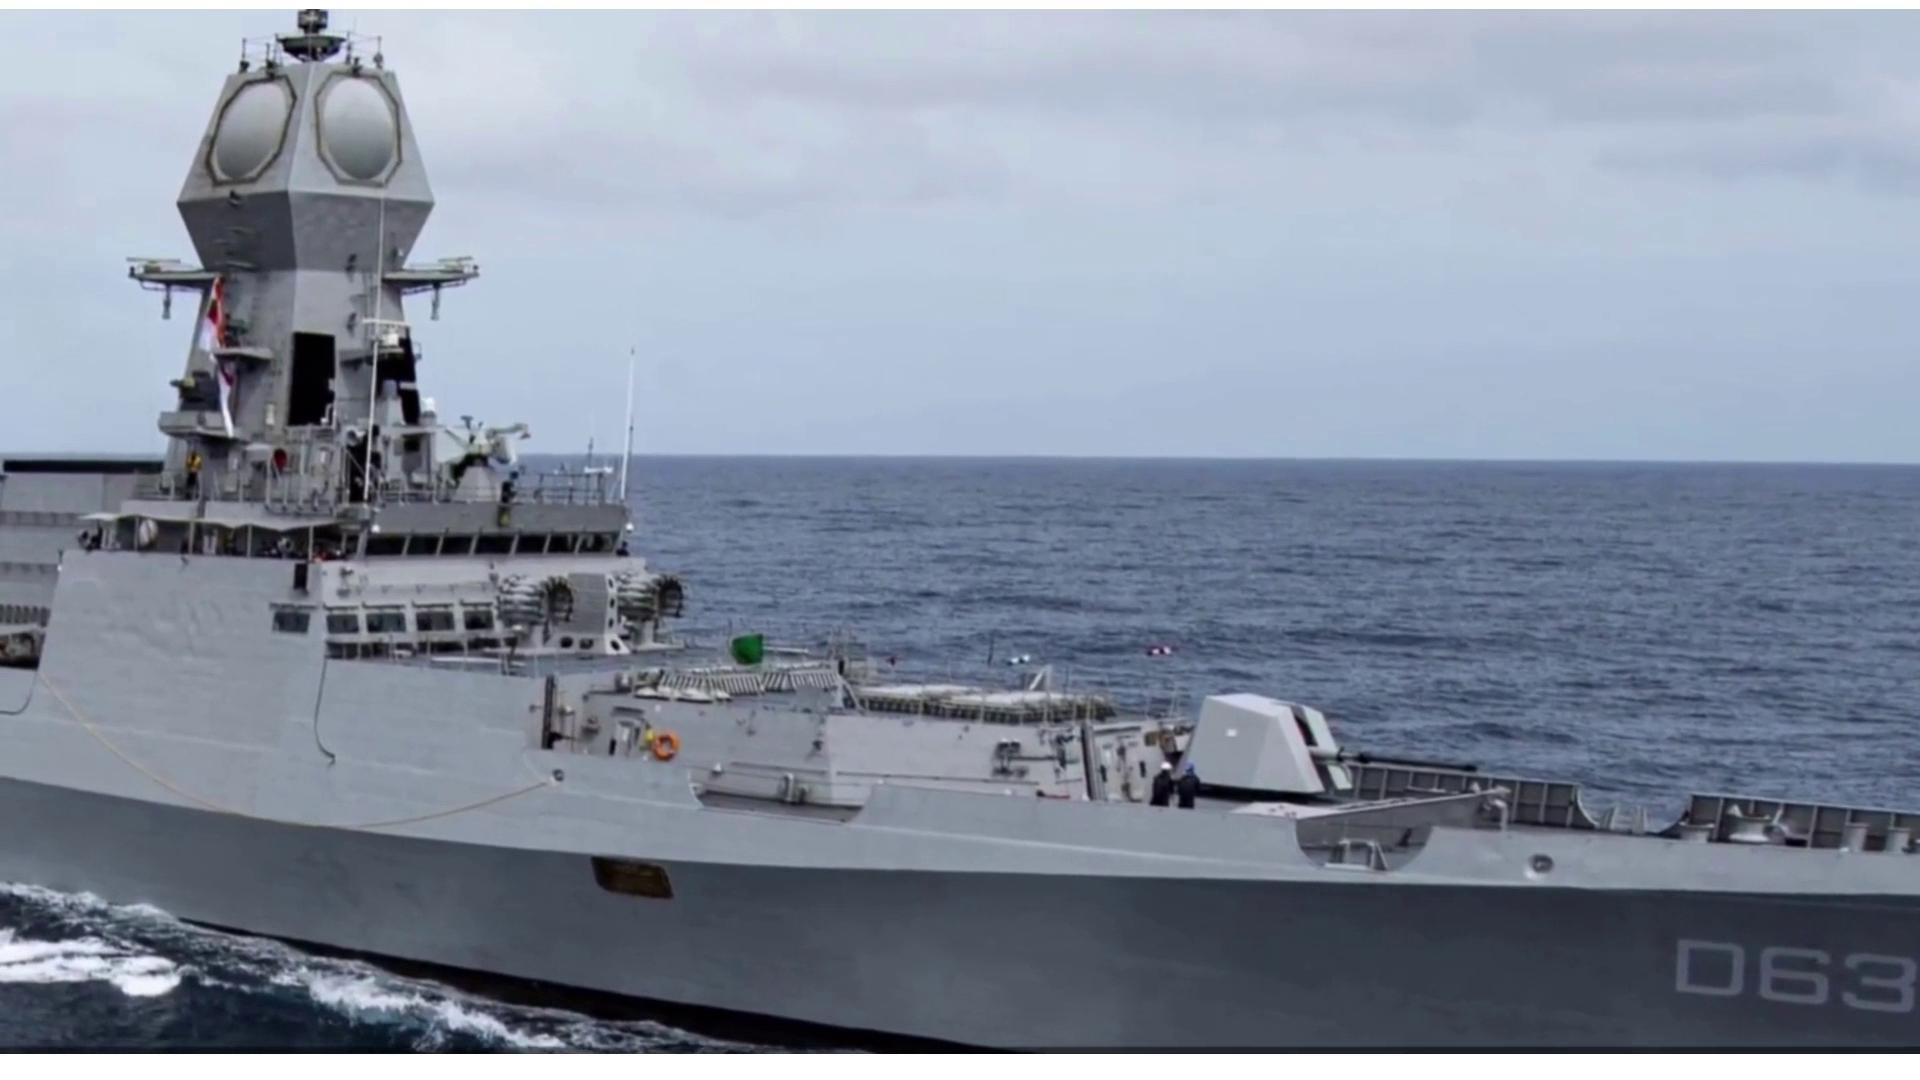OCR: (1668, 930, 1920, 1022)
